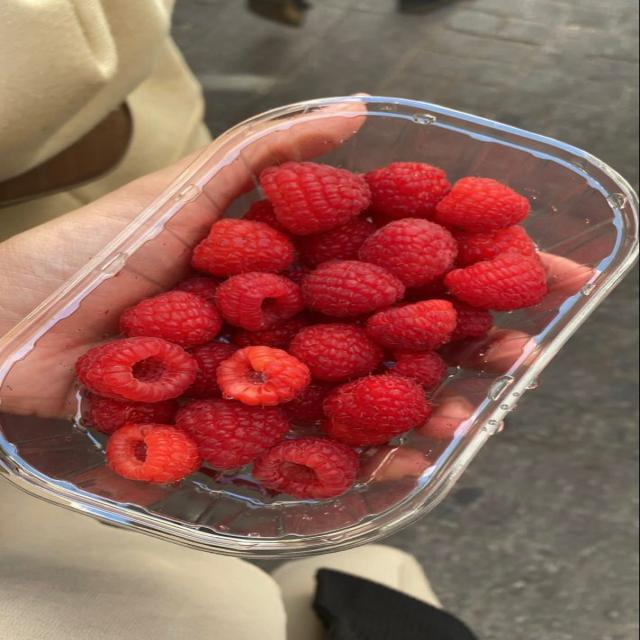raspberry: (261, 162, 369, 235), (176, 400, 289, 469), (76, 338, 197, 402), (324, 374, 431, 445), (253, 438, 359, 499), (361, 219, 457, 286), (192, 219, 294, 276), (446, 254, 548, 311), (302, 261, 404, 316), (120, 291, 221, 346), (107, 424, 201, 483), (217, 346, 310, 405), (289, 324, 384, 381), (436, 178, 530, 232), (217, 272, 303, 331), (365, 162, 450, 218), (367, 300, 456, 350), (83, 395, 178, 435), (297, 218, 376, 266), (454, 226, 536, 267), (185, 342, 237, 398), (359, 446, 432, 482), (233, 315, 310, 349), (390, 351, 447, 388), (283, 381, 334, 421), (449, 298, 493, 340), (405, 266, 457, 301), (243, 199, 288, 233), (174, 276, 220, 302), (362, 209, 396, 228), (284, 267, 312, 286)
